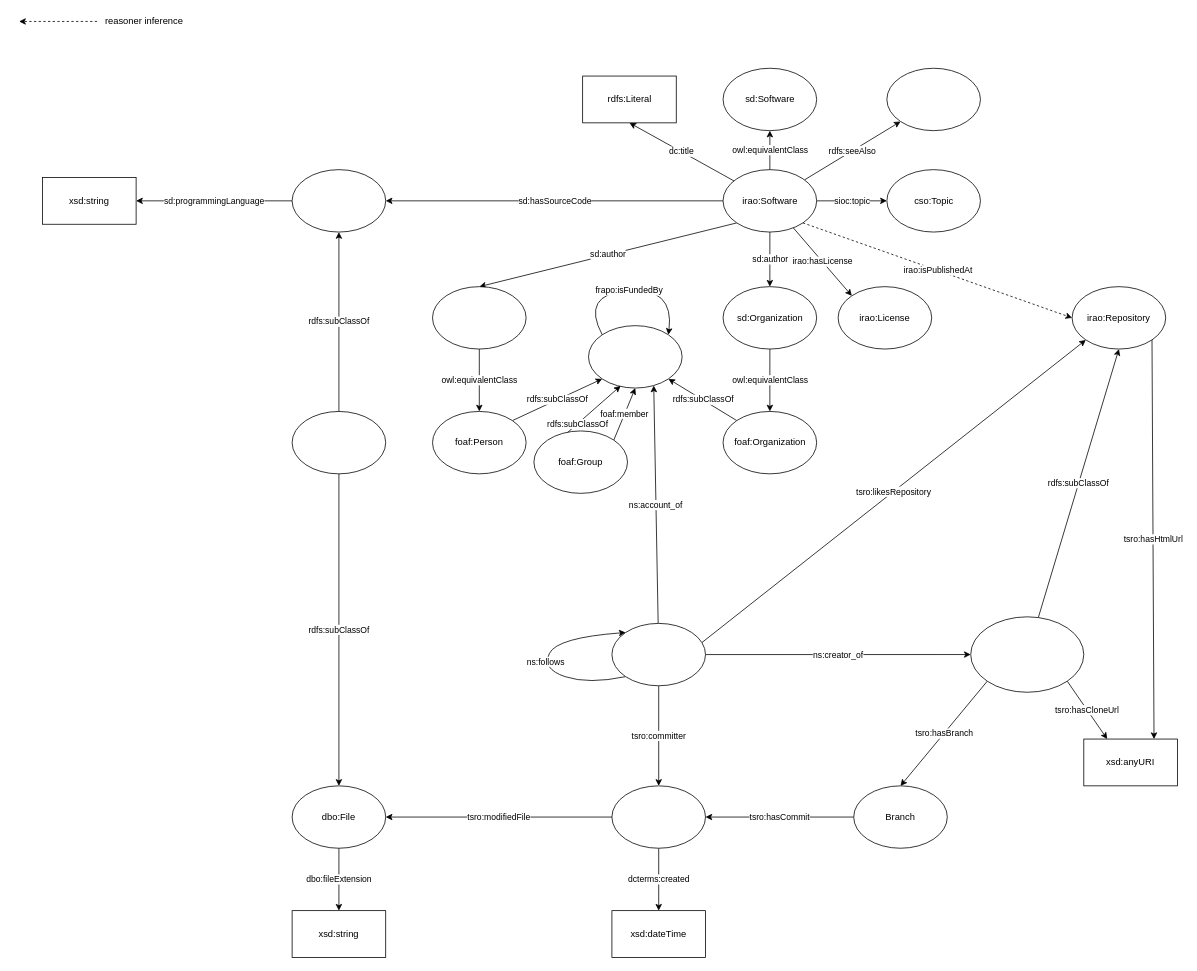
This 1197x971 diagram has some shape labels left out. The centre of each missing label's shape, as x and y in pixels:
"dbo:Software" goes at [933,99].
"foaf:Agent" goes at [635,356].
"ns:UserAccount" goes at [658,654].
"sd:Person" goes at [479,317].
"sd:SourceCode" goes at [338,200].
"tsro:Commit" goes at [658,816].
"tsro:SoftwareRepository" goes at [1027,654].
"tsro:SourceCodeFile" goes at [338,442].
